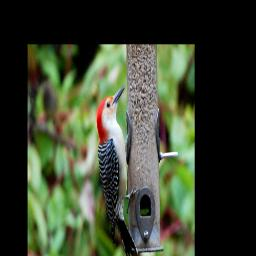Woodpecker: (96, 85, 140, 256)
